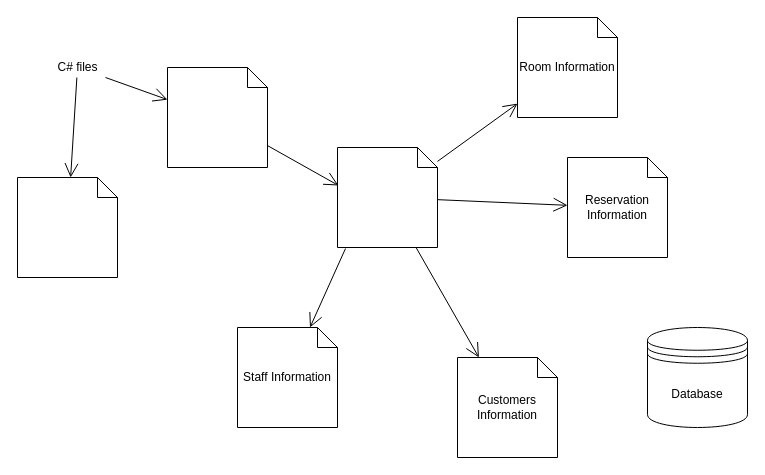
This 765x475 diagram has some shape labels left out. Here are the shapes that lost their labels. From the top down, the centre of each, then its label:
At point 217,117: "Login".
At point 387,197: "Main menu".
At point 67,227: "Registration".
